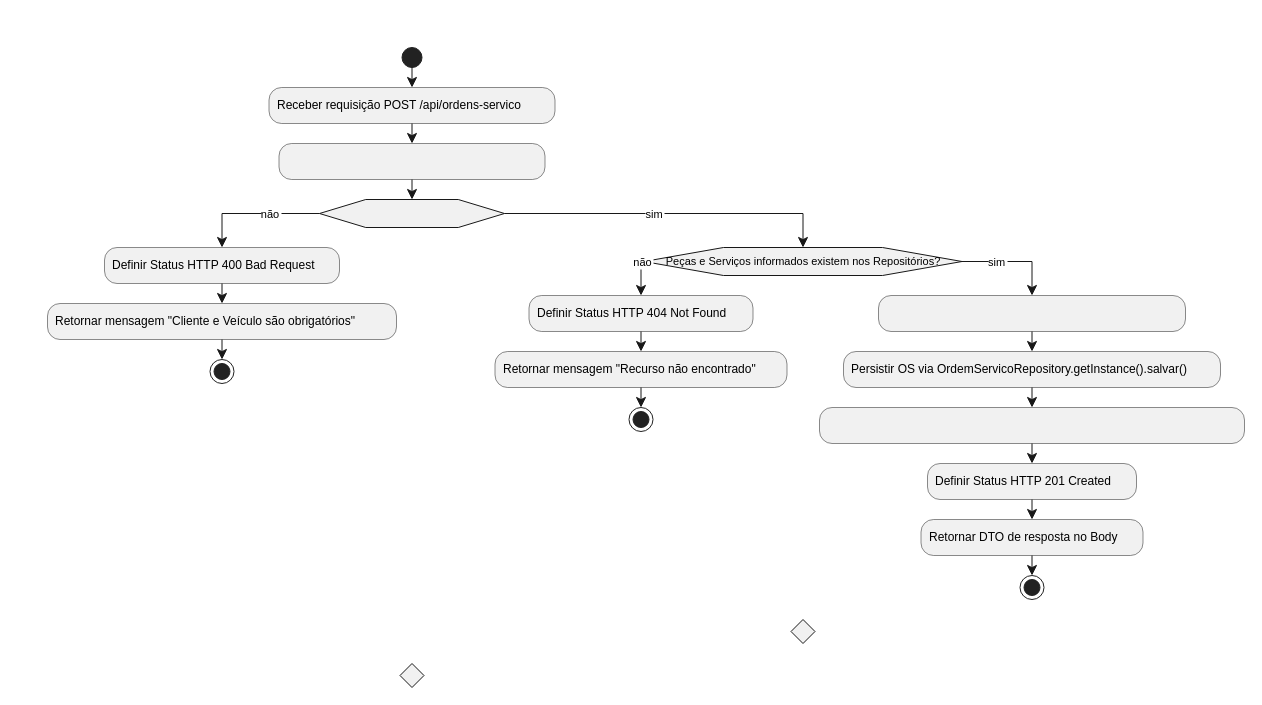
Some shapes in this 1262 by 705 pixel diagram are drawn without their labels. Each missing label, with the centre of its shape:
"Cliente e Veículo informados?" belongs at (x=411, y=213).
"Converter OrdemServico para OrdemServicoResponseDTO via Mapper" belongs at (x=1031, y=425).
"Extrair OrdemServicoRequestDTO do Body" belongs at (x=411, y=161).
"Instanciar OrdemServico via OrdemServicoBuilder" belongs at (x=1031, y=313).
